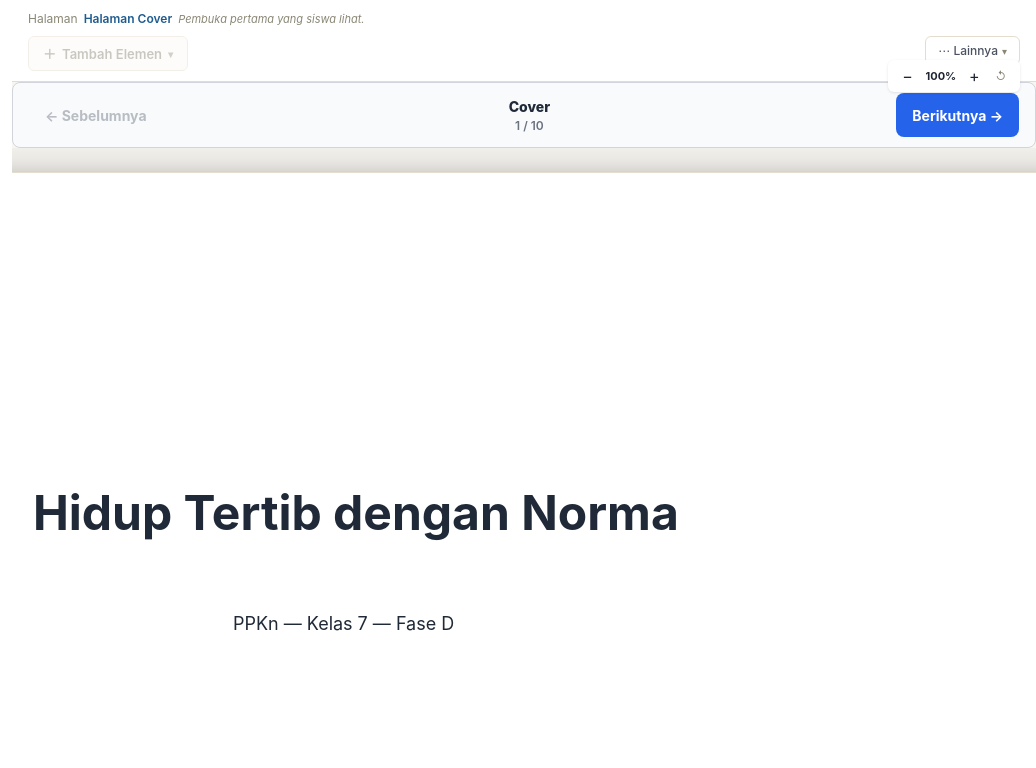
UX-06: Zoom & Pan Canvas › 6. Clicking zoom in increases zoom level
The width and height of the screenshot is (1036, 768).
Click the button with test id "zoom-in". click: (974, 76)
box: [963,64,986,88]
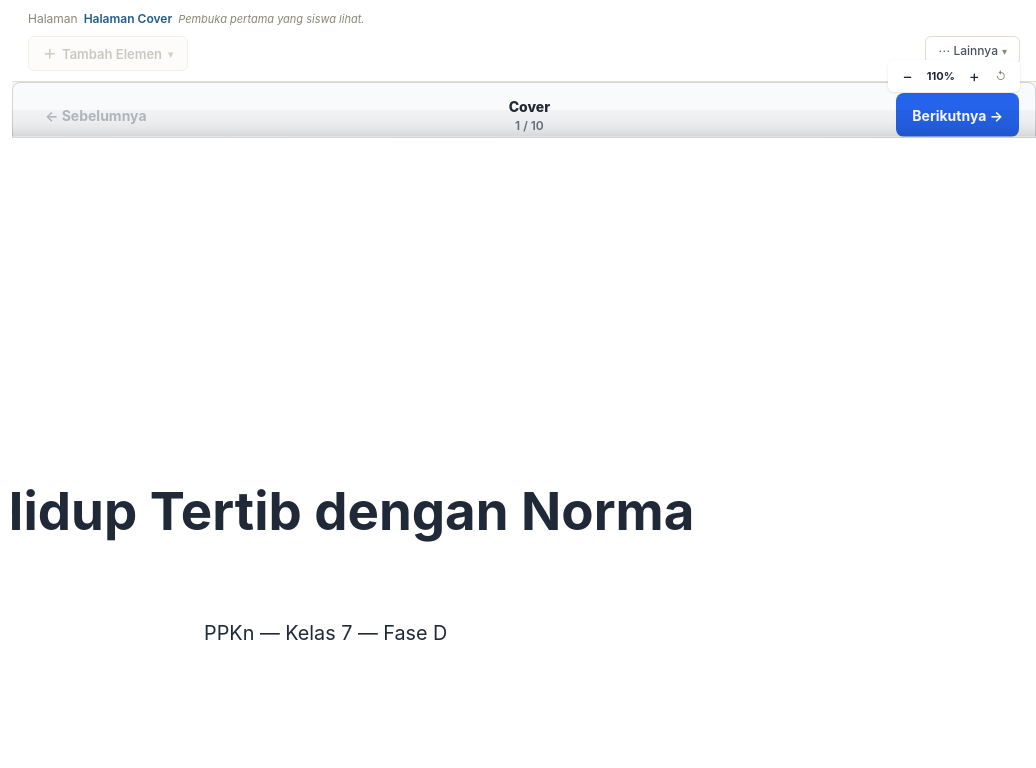
Expected: the text with test id "zoom-level" reads "110%", [927,69,955,83]
